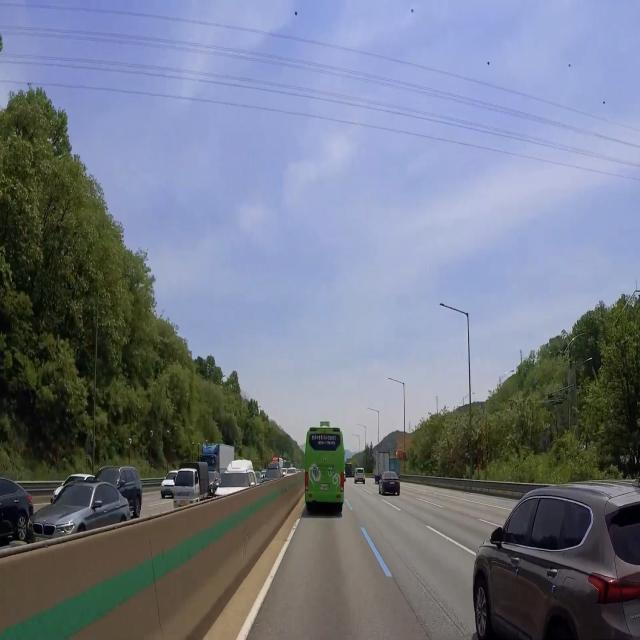car: (318, 483, 329, 494), (388, 480, 399, 491)
